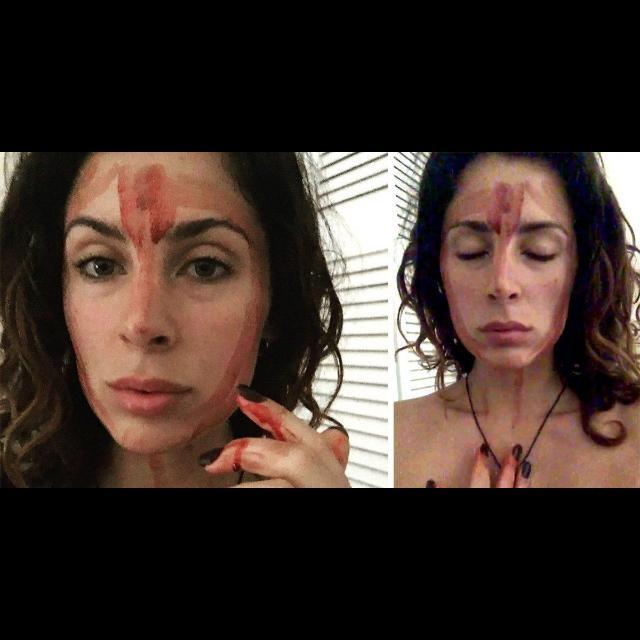blood: (188, 235, 269, 441), (166, 174, 264, 253), (442, 242, 487, 360), (117, 164, 175, 246), (73, 342, 115, 432), (442, 186, 498, 244), (66, 158, 117, 217), (237, 395, 297, 441), (132, 239, 157, 333), (488, 182, 525, 236), (543, 285, 572, 350), (525, 179, 560, 219), (122, 434, 182, 454), (65, 290, 83, 349), (513, 367, 525, 428), (148, 455, 166, 487), (567, 233, 577, 288), (233, 439, 249, 472), (330, 439, 344, 465), (535, 335, 546, 357), (476, 451, 488, 469), (482, 388, 488, 418), (503, 456, 518, 466)
